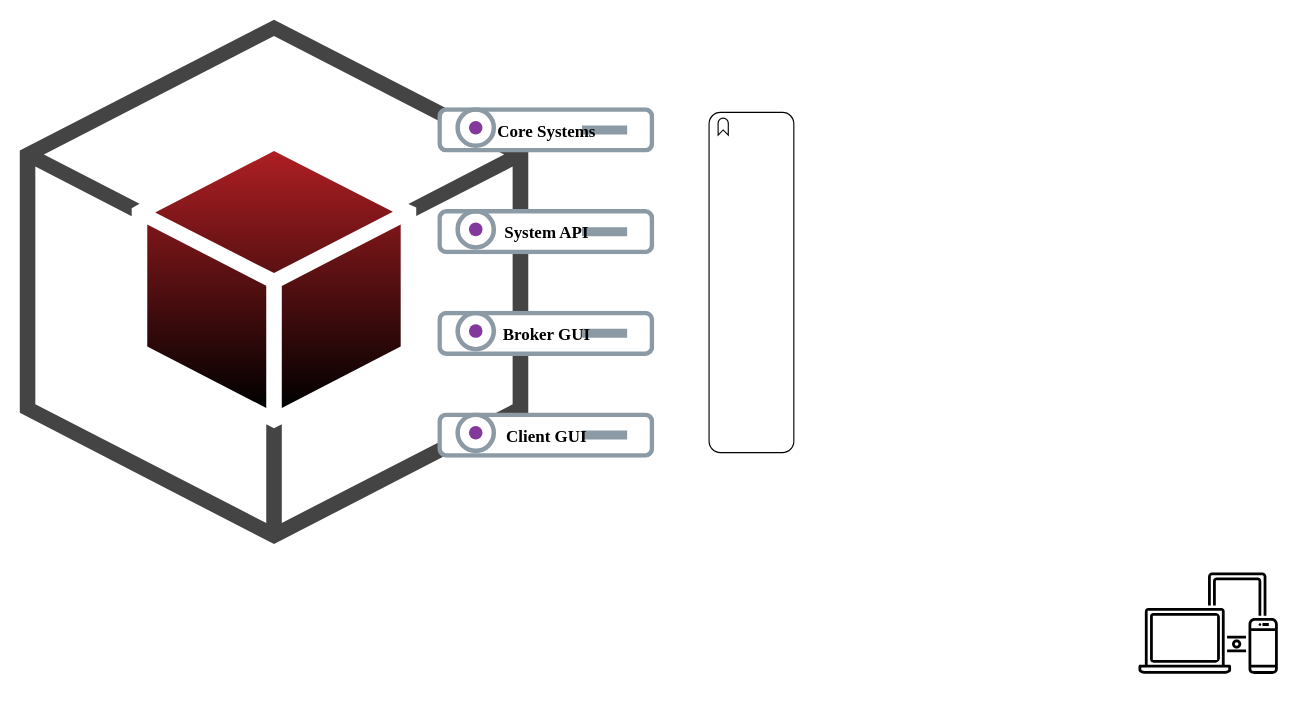
Some shapes in this 1297 by 718 pixel diagram are drawn without their labels. Here are the shapes that lost their labels. From the top down, the centre of each, then its label:
At point 751,282: "DB Abstraction Layer".
At point 1207,622: "devices".
